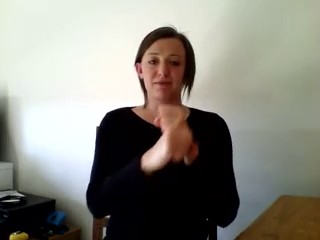G: (152, 104, 195, 169)
